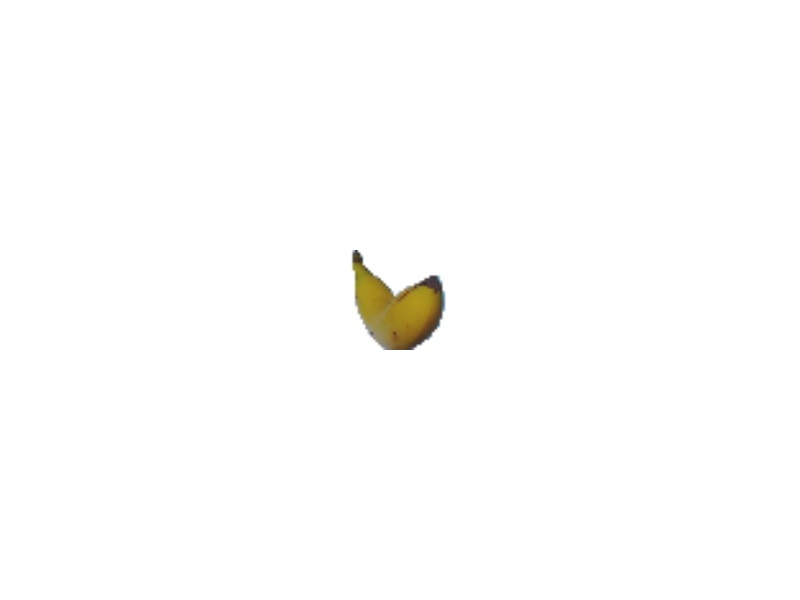banana: (350, 247, 446, 352)
